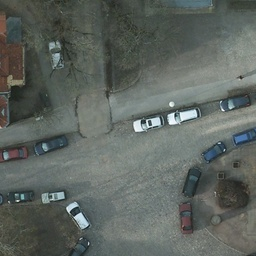car: (46, 38, 66, 73), (67, 202, 91, 231), (220, 92, 251, 113), (133, 114, 164, 134), (182, 168, 202, 198), (177, 204, 197, 234), (36, 136, 67, 155), (169, 108, 198, 125), (8, 189, 35, 206), (201, 142, 225, 161), (0, 145, 28, 160), (42, 190, 65, 204), (0, 194, 5, 209)
